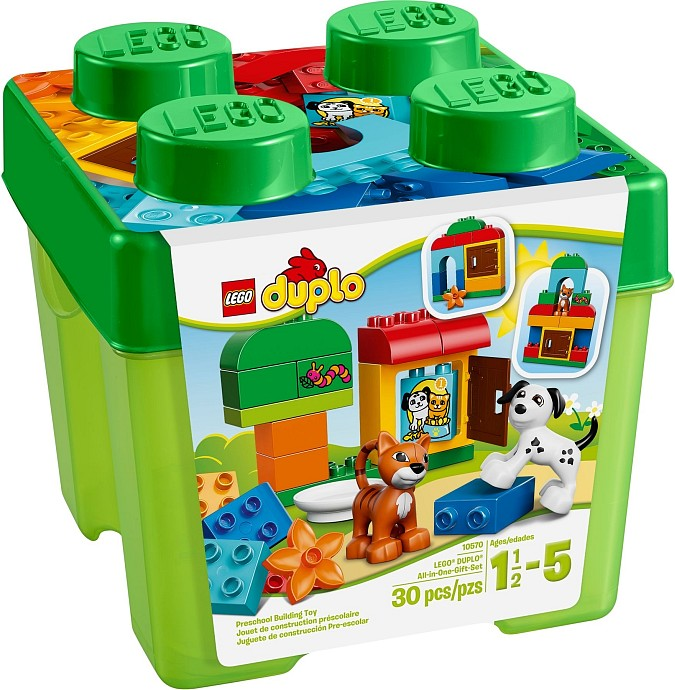LEGO: (212, 270, 261, 320)
